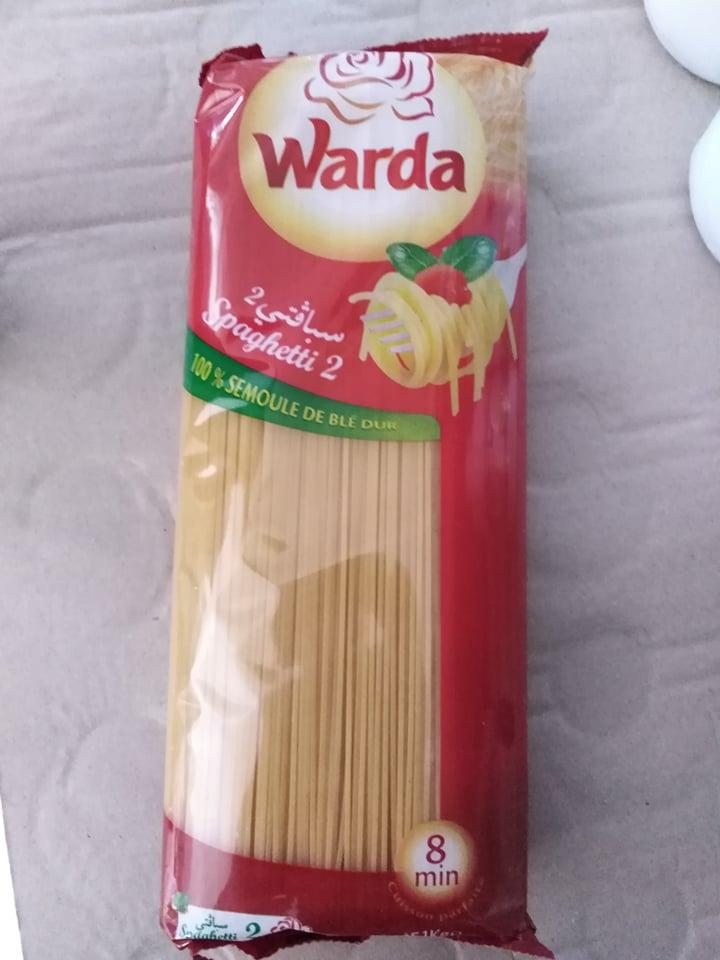Spaghetti: (164, 26, 555, 957)
